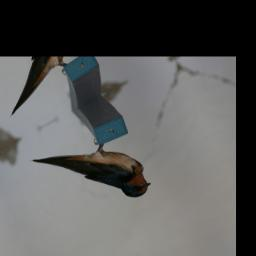Swallow: (29, 111, 157, 239)
